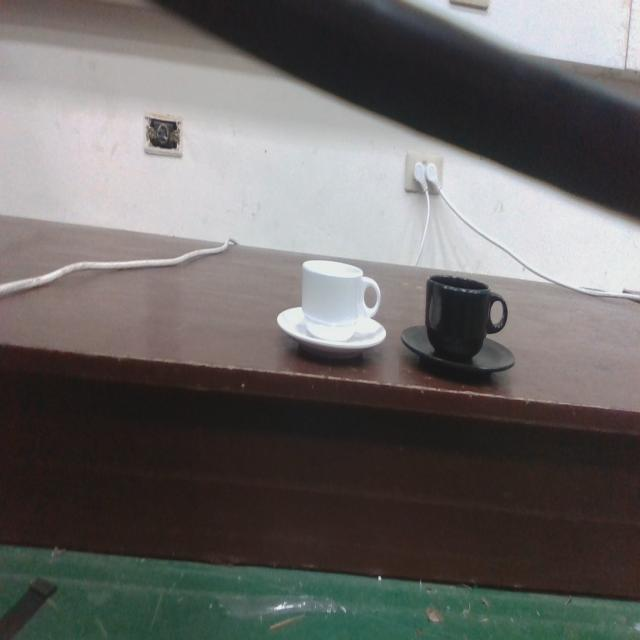black: (396, 271, 516, 378)
white: (276, 255, 388, 358)
